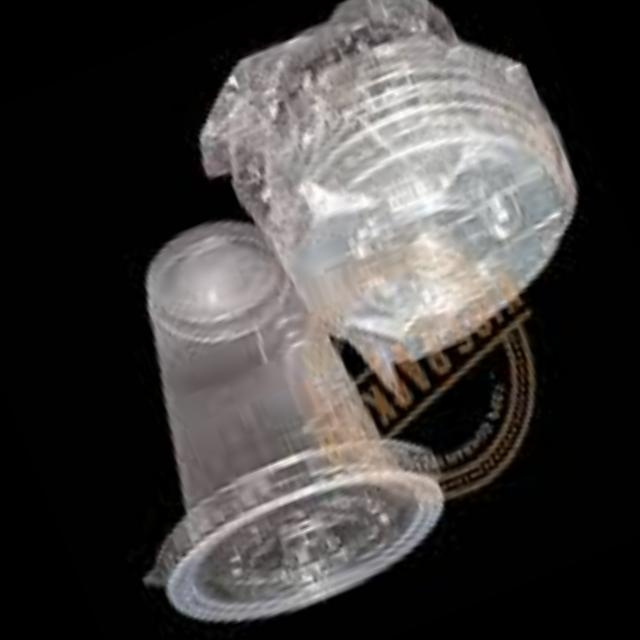GelasPlastik: (26, 173, 473, 640)
